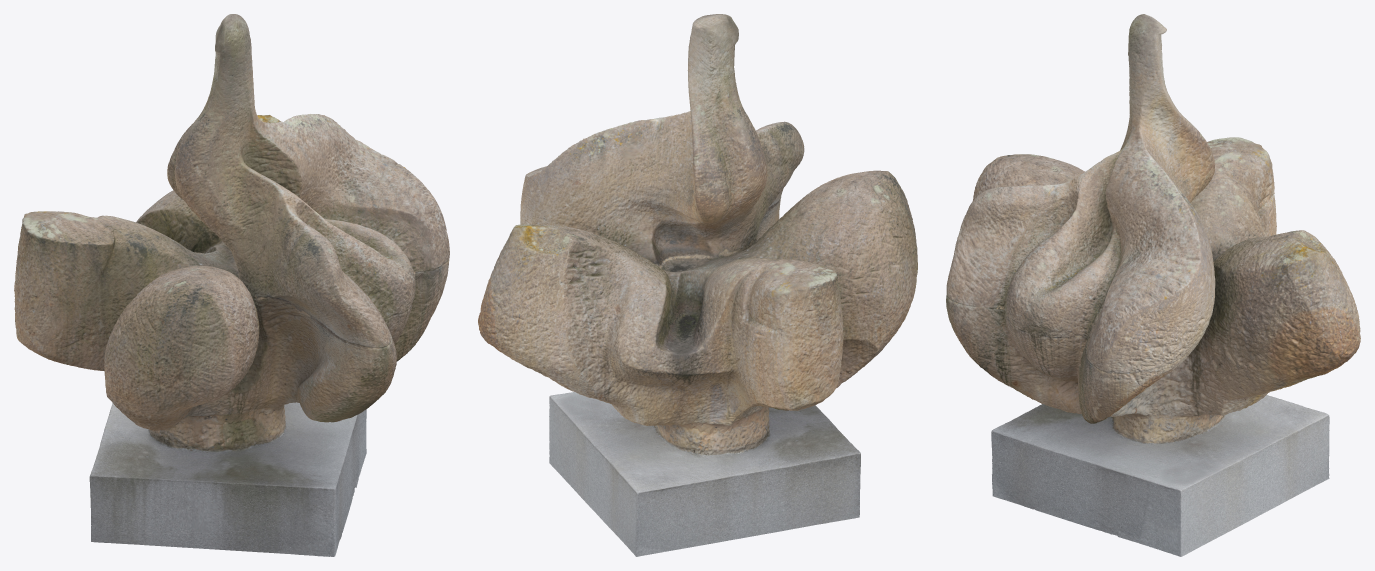
The model's file is sculture2.glb.
3 views of the same model, side by side, from view 1: azimuth 30°, elevation 25°; view 2: azimuth 150°, elevation 25°; view 3: azimuth 270°, elevation 25° (orthographic). The views are drawn at different scales.
Parts seen in each view (by area): view 1: Model; view 2: Model; view 3: Model.
Boxes of the visible parts, x1,y1,x2,y2 form: Model: [14, 14, 449, 556]; Model: [478, 14, 917, 556]; Model: [946, 14, 1360, 556].
Size of the model in its own units: 8.04 by 10.15 by 8.16.
2 materials, 2 textured.
